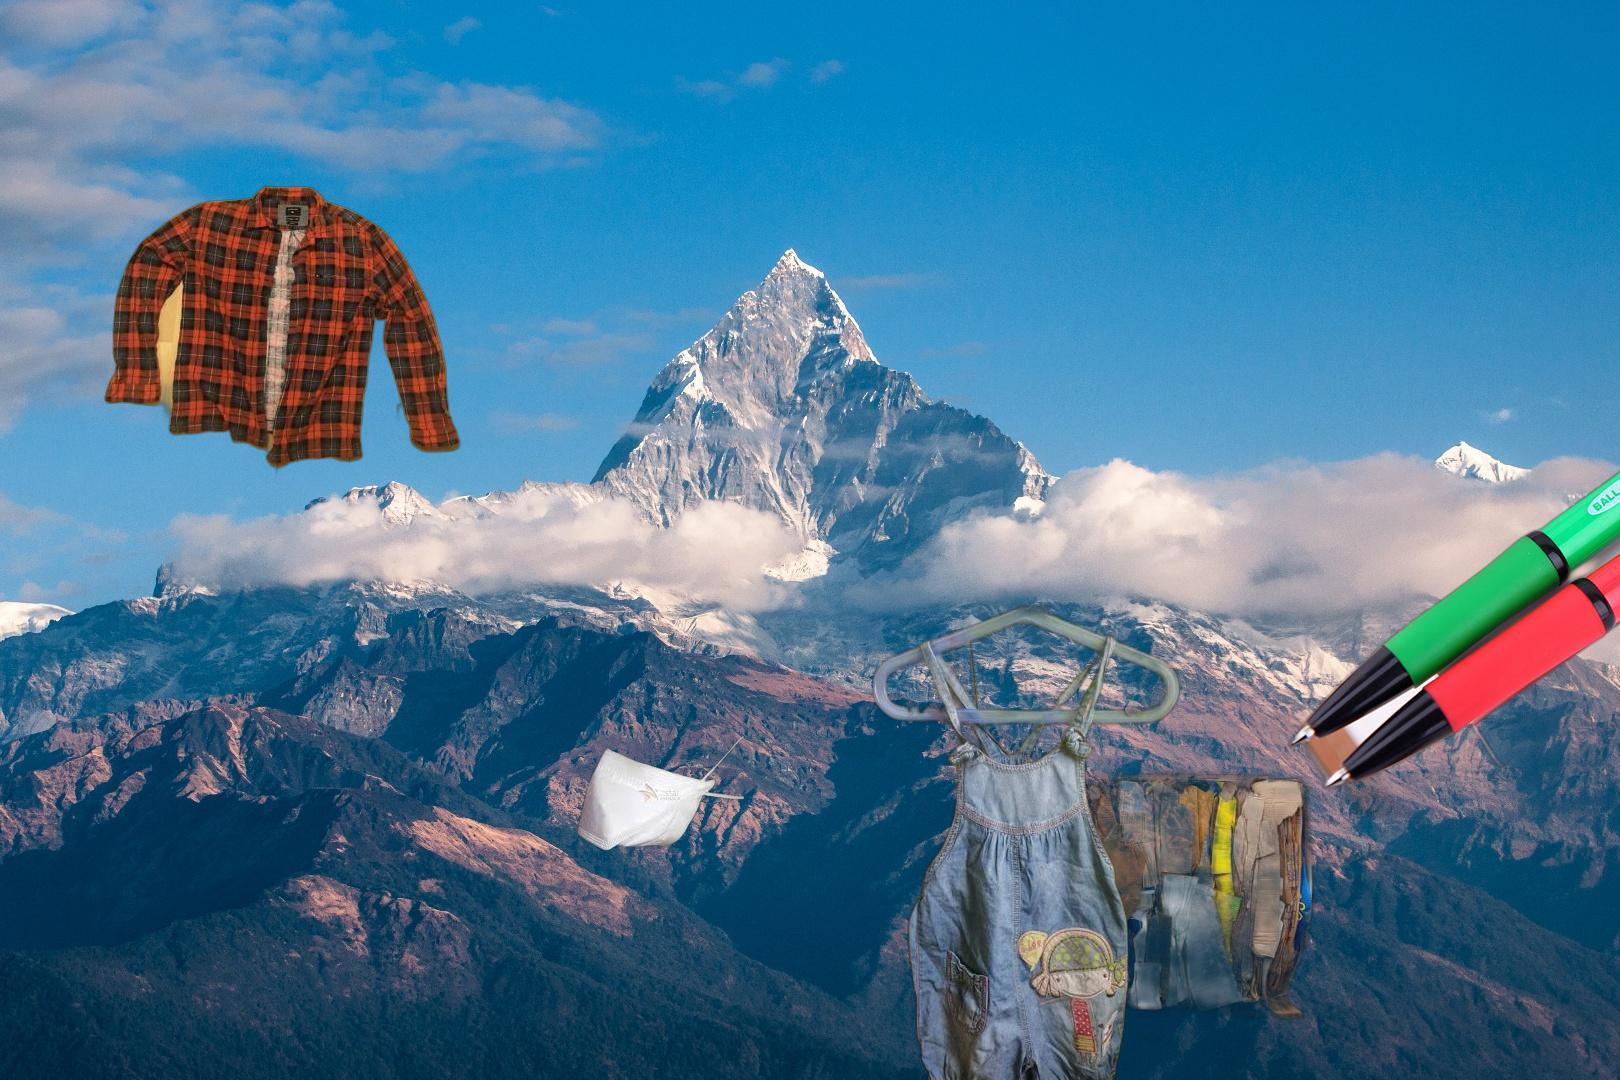clothes: (824, 605, 1182, 1080), (101, 183, 463, 486)
penholder: (1281, 253, 1620, 818)
trash: (574, 732, 747, 853)
trashbox-cardboard: (935, 745, 1328, 1044)
